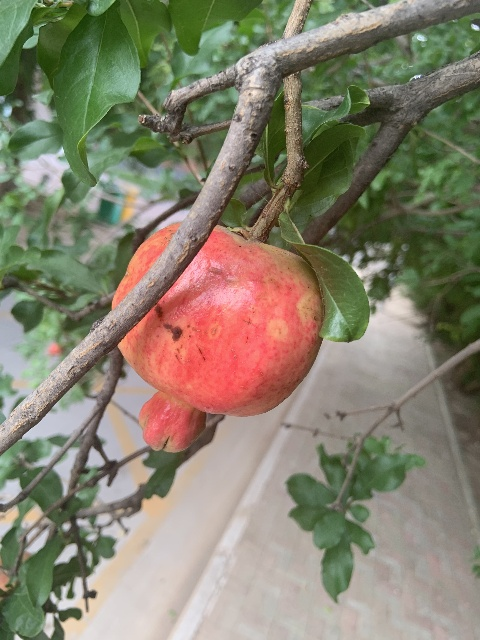ripe: (111, 222, 323, 453)
